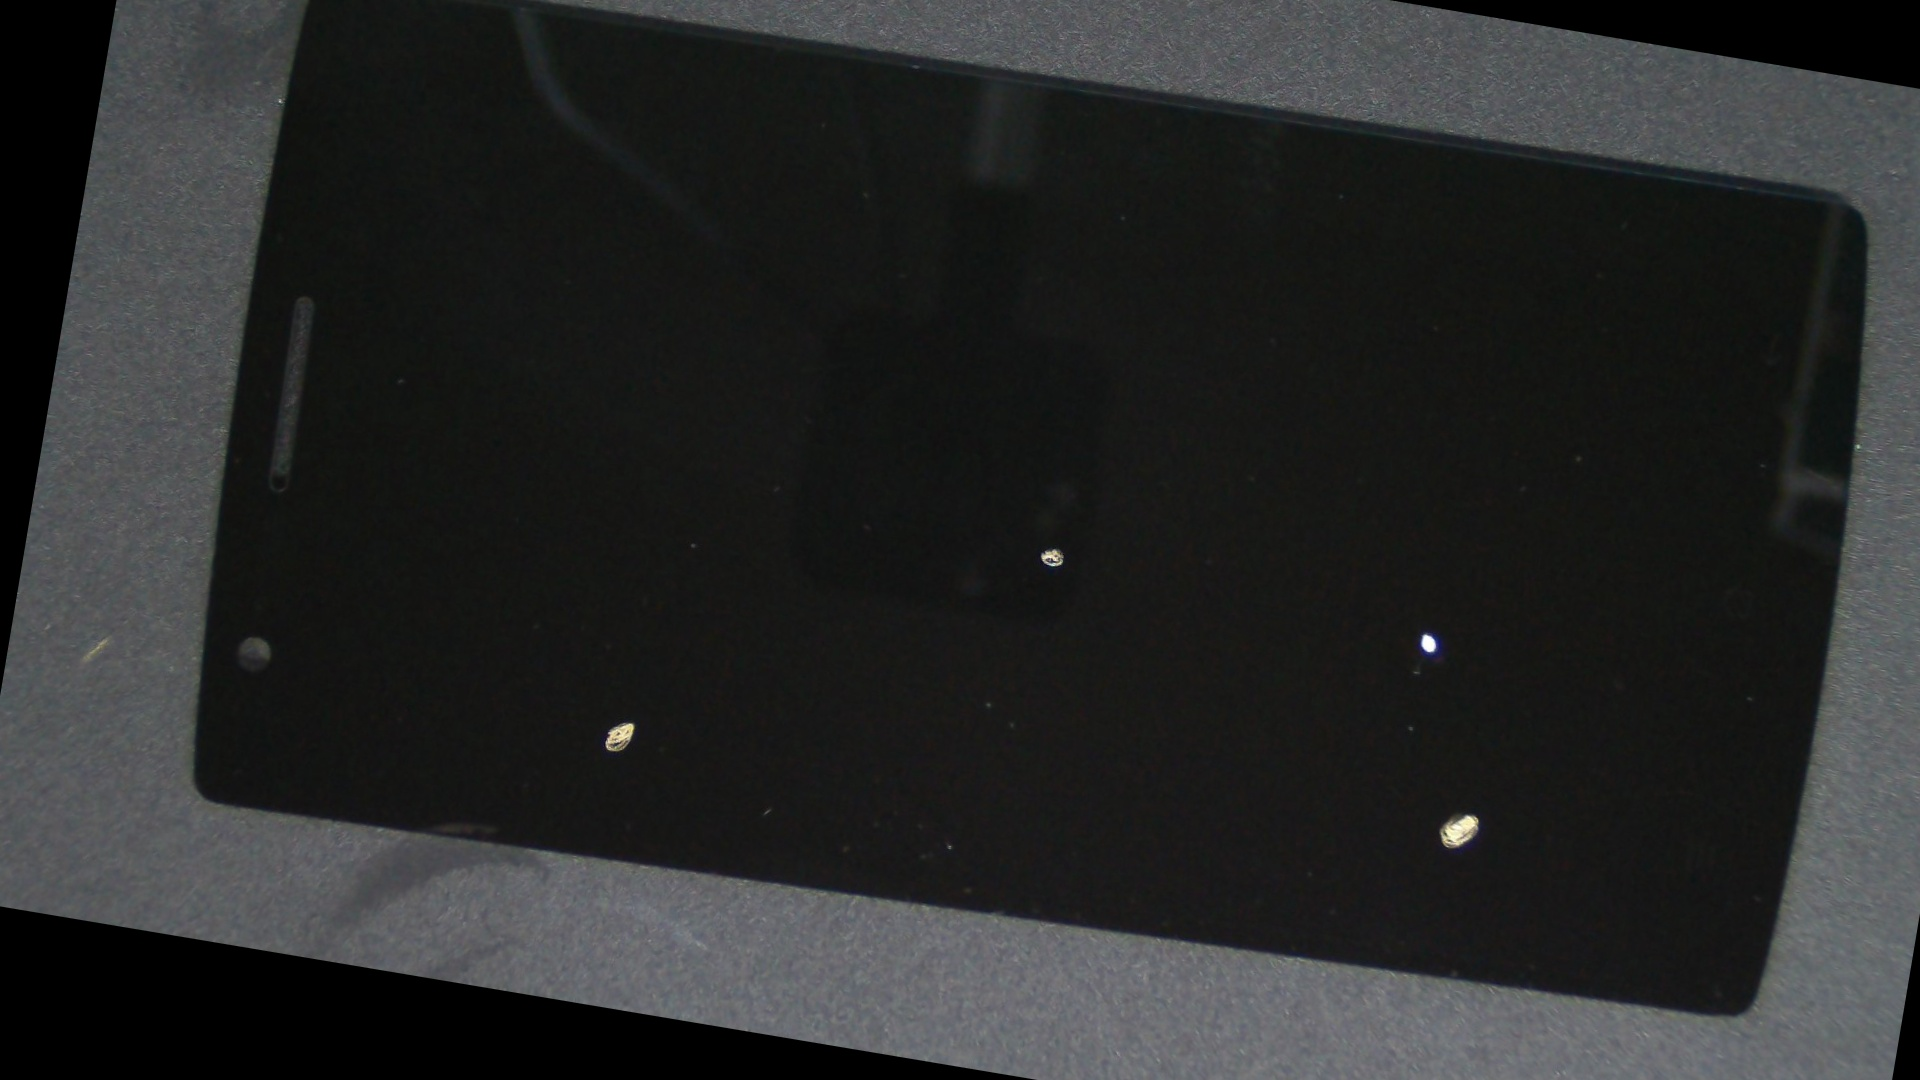oil: (687, 211, 1920, 1025), (686, 302, 1920, 1080), (504, 170, 1602, 924), (273, 257, 1002, 1055)
